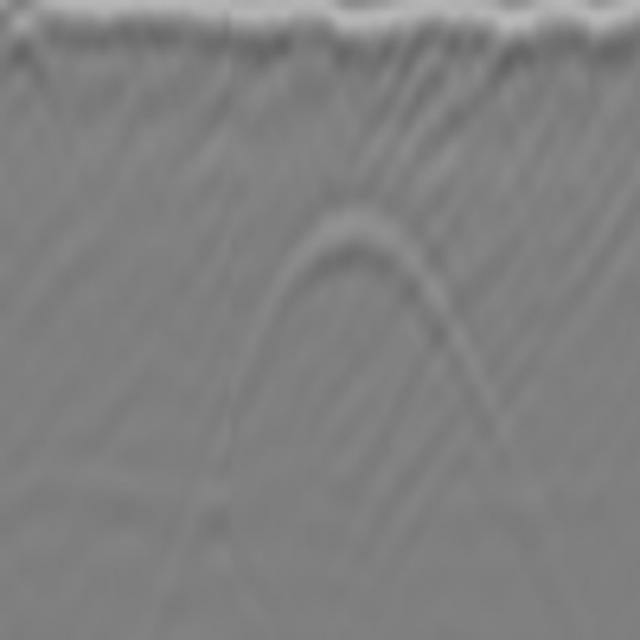hyperbola: (244, 194, 484, 393)
